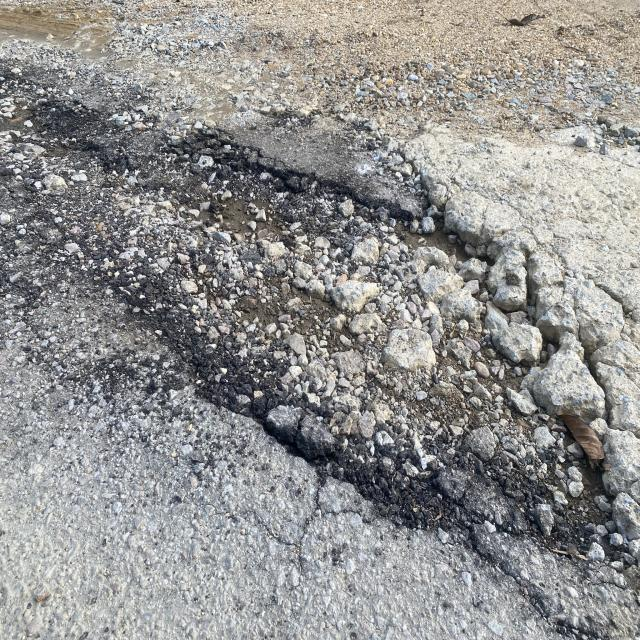pothole: (39, 53, 640, 595)
